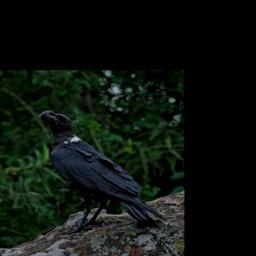Crow: (36, 108, 166, 235)
